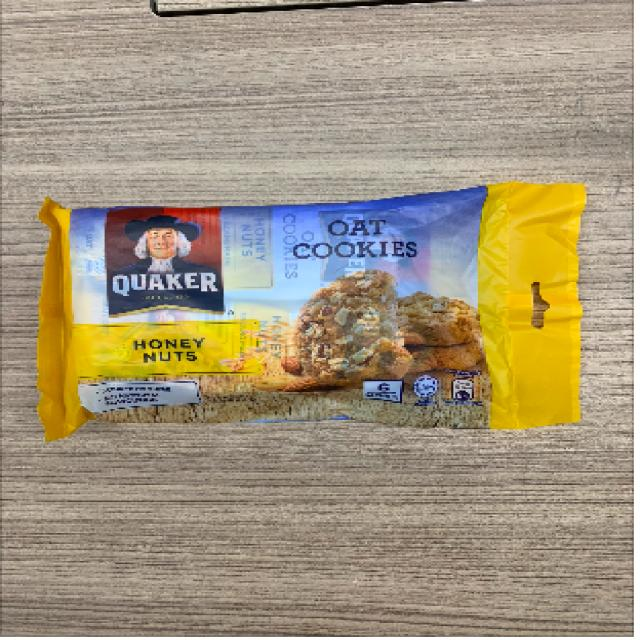object_name: (42, 205, 570, 419)
